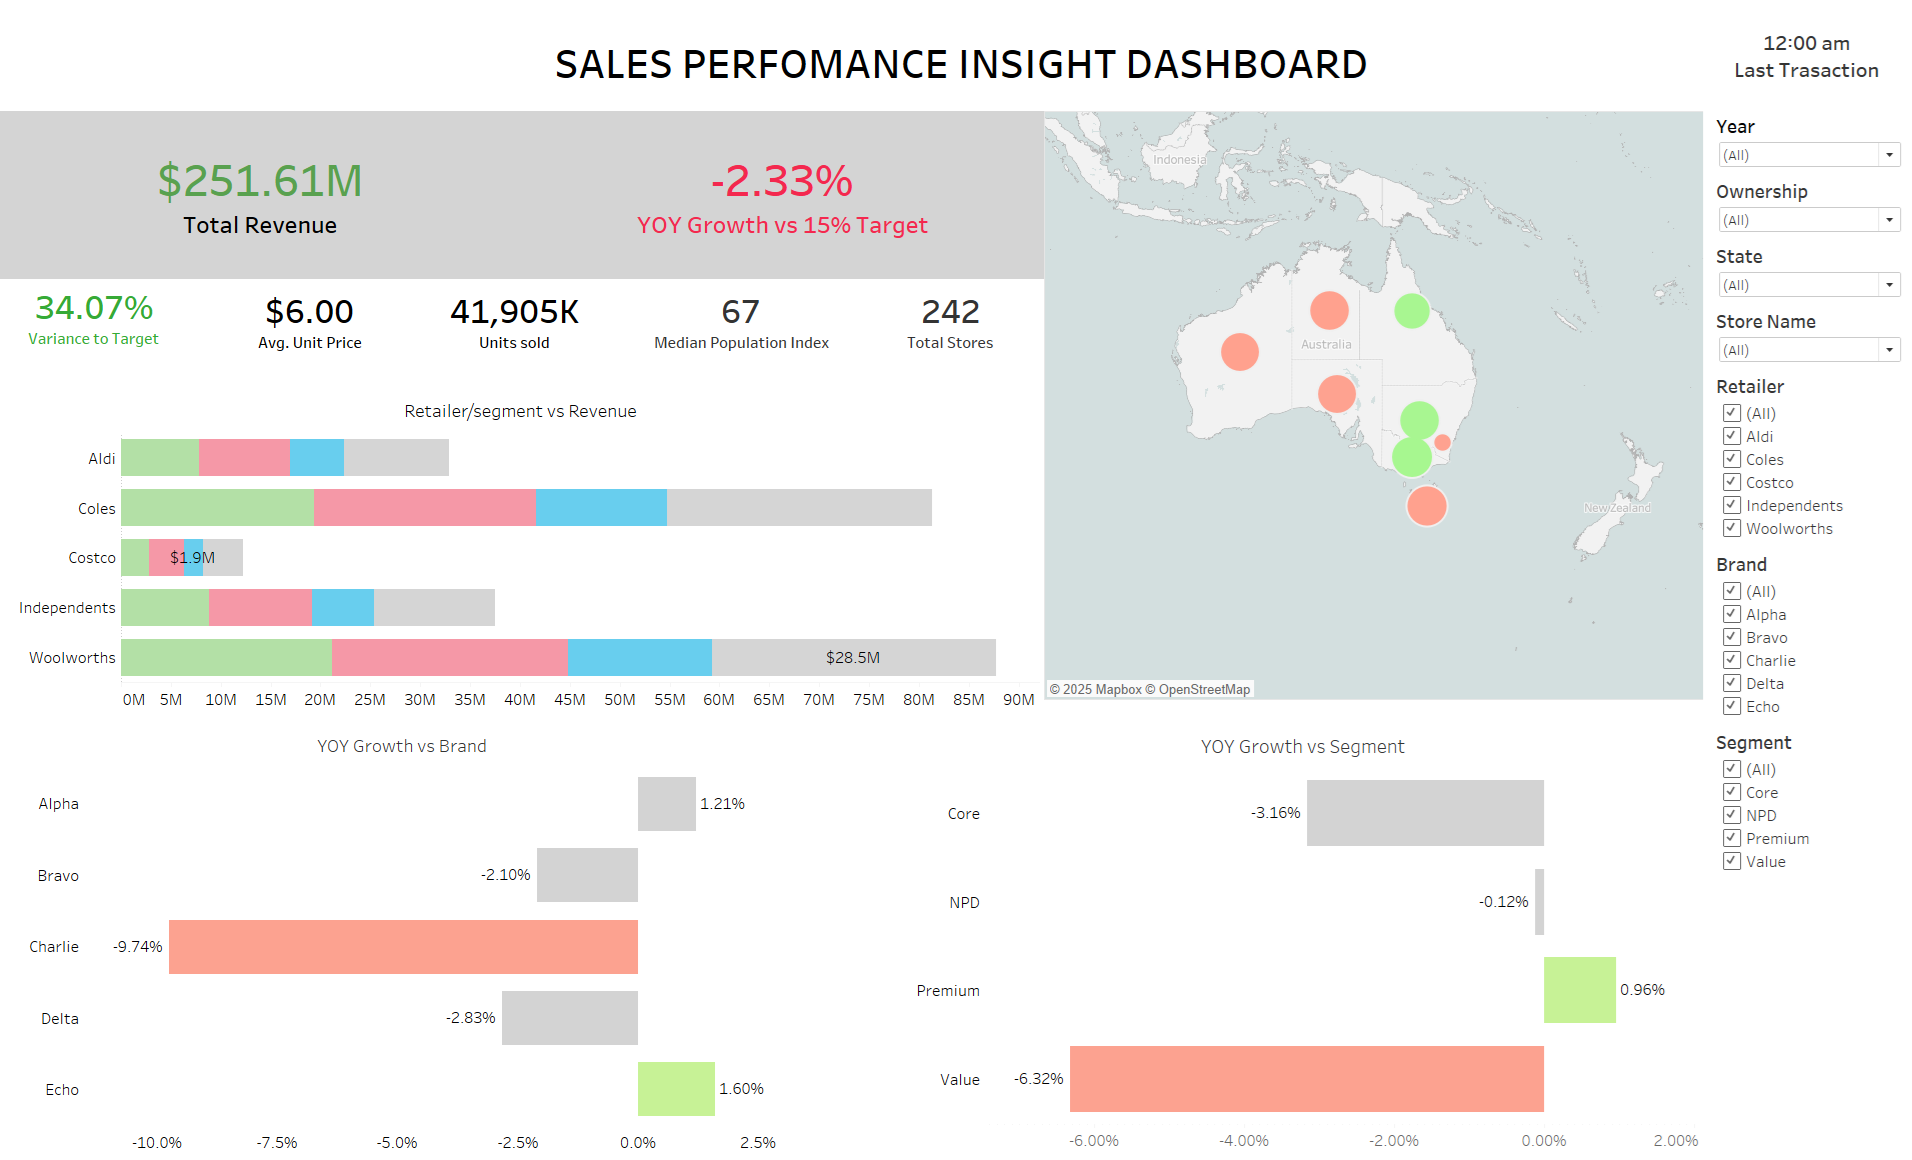

Layout of this report page (visuals, bound fields, positions):
{"tool":"tableau","page":{"name":"RETAIL SALES DASHBOARD","canvas":[1000,1000],"units":"permille","ordinal":0},"visuals":[{"type":"blank","box":[1.2,5.2,996.3,89.6]},{"type":"worksheet","title":"Sheet 13","mark":"Automatic","box":[891.8,11.3,102.1,75.2]},{"type":"text","box":[231.8,25.8,541.3,54.6]},{"type":"filter","title":"KPIs","param":"[federated.1cnvq9q1x002tu1dr7mv60f1vdxf].[yr:Date:ok]","box":[893.2,93.7,102.3,66.9]},{"type":"worksheet","title":"KPIs","mark":"Text","box":[1.2,95.8,272.3,144.2]},{"type":"worksheet","title":"yoy vs 15% tar","mark":"Automatic","box":[273.2,95.8,272,144.2]},{"type":"worksheet","title":"Map1","mark":"Automatic","box":[545.2,95.8,343.5,518]},{"type":"filter","title":"KPIs","param":"[federated.1cnvq9q1x002tu1dr7mv60f1vdxf].[none:Ownership:nk]","box":[893.2,160.7,102.3,66.9]},{"type":"filter","title":"KPIs","param":"[federated.1cnvq9q1x002tu1dr7mv60f1vdxf].[none:State:nk]","box":[893.2,227.6,102.3,66.9]},{"type":"worksheet","title":"Variance to target","mark":"Automatic","box":[1.9,241,117.5,92.7]},{"type":"worksheet","title":"Top","mark":"Automatic","box":[116.1,241,93.5,69]},{"type":"worksheet","title":"Total Units","mark":"Automatic","box":[223.1,241,93.5,69]},{"type":"worksheet","title":"Total population","mark":"Automatic","box":[329.5,241,116.1,69]},{"type":"worksheet","title":"Sheet 12","mark":"Automatic","box":[449.9,241,93.5,69]},{"type":"filter","title":"KPIs","param":"[federated.1cnvq9q1x002tu1dr7mv60f1vdxf].[none:Store Name:nk]","box":[893.2,294.5,102.3,66.9]},{"type":"worksheet","title":"Retailer vs revenue","mark":"Automatic","rows":["Retailer (Stores!Dim)"],"cols":["Revenue"],"box":[1.9,338.8,541.4,275]},{"type":"filter","title":"KPIs","param":"[federated.1cnvq9q1x002tu1dr7mv60f1vdxf].[none:Retailer:nk]","box":[893.2,361.5,102.3,183.3]},{"type":"filter","title":"KPIs","param":"[federated.1cnvq9q1x002tu1dr7mv60f1vdxf].[none:Brand:nk]","box":[893.2,544.8,102.3,183.3]},{"type":"worksheet","title":"yoy vs brand","mark":"Automatic","rows":["Brand"],"cols":["Calculation_952792798904049678"],"box":[3.7,627.2,414.4,364.6]},{"type":"worksheet","title":"Seg vs yoy","mark":"Automatic","rows":["Segment"],"cols":["Calculation_952792798904049678"],"box":[473.1,627.2,414.4,364.6]},{"type":"filter","title":"KPIs","param":"[federated.1cnvq9q1x002tu1dr7mv60f1vdxf].[none:Segment:nk]","box":[893.2,728.1,102.3,159.6]}]}

Visuals, with their boxes on the dashboard's canvas, which has no fixed pixel size, in thousandths of its width and height (x1, y1, x2, y2). These are canvas units, not pixel positions in the 1912x1160 screenshot, which may show the page scaled, cropped or inside an application window:
blank: [1, 5, 998, 95]
"Sheet 13" worksheet: [892, 11, 994, 86]
text: [232, 26, 773, 80]
"KPIs" filter: [893, 94, 996, 161]
"KPIs" worksheet (Text marks): [1, 96, 274, 240]
"yoy vs 15% tar" worksheet: [273, 96, 545, 240]
"Map1" worksheet: [545, 96, 889, 614]
"KPIs" filter: [893, 161, 996, 228]
"KPIs" filter: [893, 228, 996, 294]
"Variance to target" worksheet: [2, 241, 119, 334]
"Top" worksheet: [116, 241, 210, 310]
"Total Units" worksheet: [223, 241, 317, 310]
"Total population" worksheet: [330, 241, 446, 310]
"Sheet 12" worksheet: [450, 241, 543, 310]
"KPIs" filter: [893, 294, 996, 361]
"Retailer vs revenue" worksheet: [2, 339, 543, 614]
"KPIs" filter: [893, 362, 996, 545]
"KPIs" filter: [893, 545, 996, 728]
"yoy vs brand" worksheet: [4, 627, 418, 992]
"Seg vs yoy" worksheet: [473, 627, 888, 992]
"KPIs" filter: [893, 728, 996, 888]
